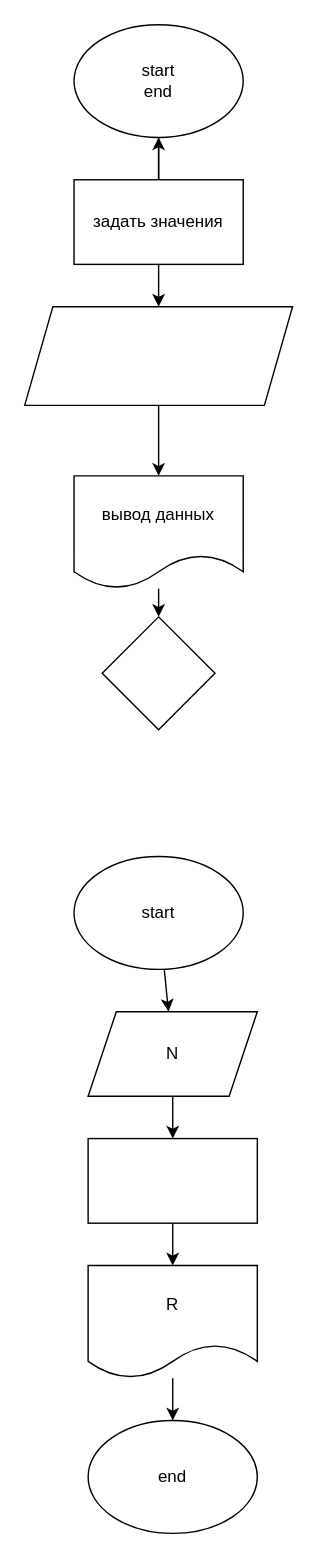
Some shapes in this 317 by 1558 pixel diagram are drawn without their labels. Each missing label, with the centre of its shape:
"R=random(1,N)" belongs at (x=172, y=1180).
"считать значения (ввод)" belongs at (x=158, y=355).
"условие" belongs at (x=158, y=672).
